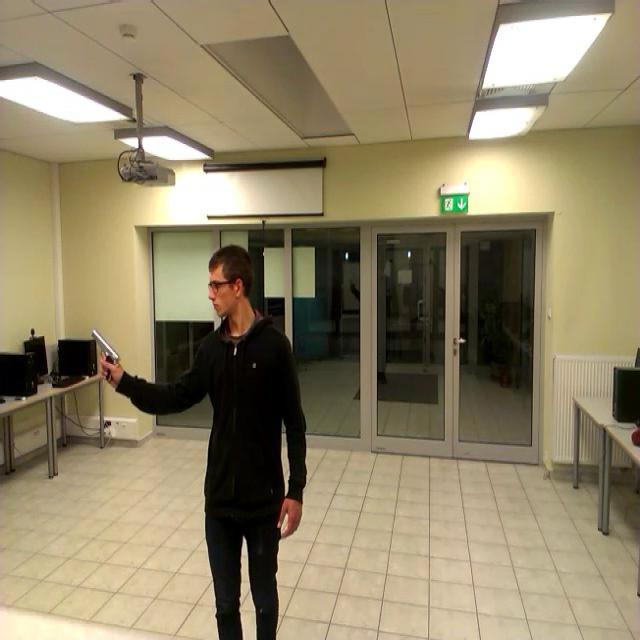weapon: (90, 330, 120, 380)
